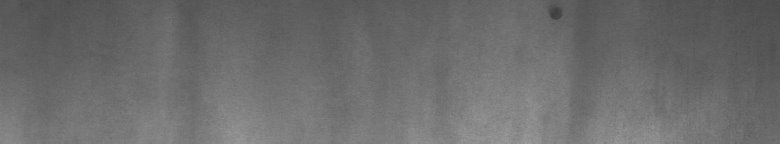fi: (545, 4, 564, 26)
